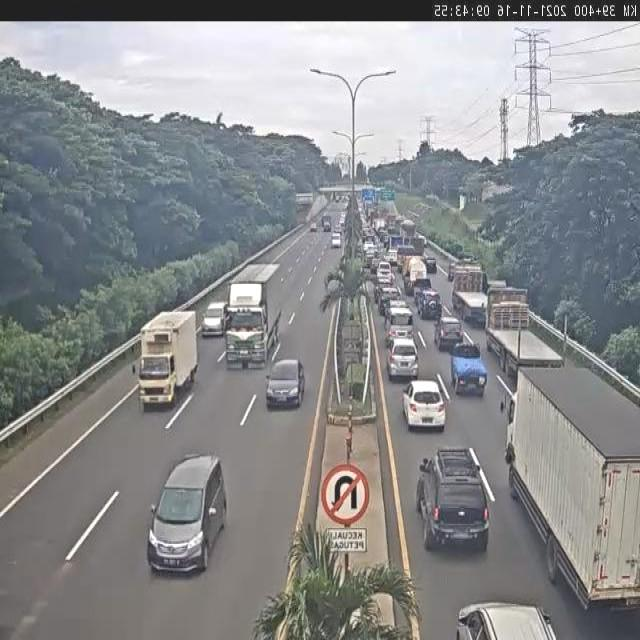Car: (147, 451, 228, 579), (415, 448, 491, 553), (457, 601, 556, 640), (402, 380, 446, 435), (265, 358, 305, 409), (387, 338, 419, 383), (434, 318, 464, 352), (201, 300, 228, 336), (417, 289, 442, 319), (379, 287, 402, 314), (376, 261, 392, 273)
Truck: (499, 363, 640, 613), (480, 284, 568, 374), (220, 261, 283, 371), (130, 310, 197, 410), (448, 341, 488, 398), (450, 268, 492, 322), (402, 254, 429, 297), (409, 235, 428, 255), (398, 219, 416, 239), (385, 234, 406, 250), (374, 218, 385, 233)
Van: (385, 308, 414, 342)
